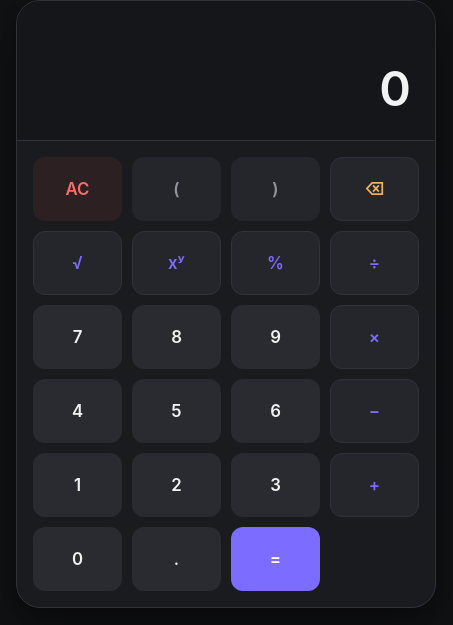
Test case: Calculator › builds an expression when an operator is entered
The width and height of the screenshot is (453, 625).
Step 1. Click the button "8" → (176, 337), box [132,305,221,369]
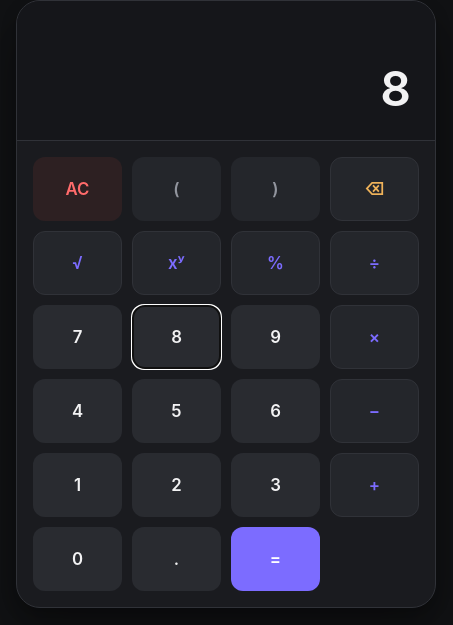
Step 2. Click the button "+" → (374, 485), box [330,453,419,517]
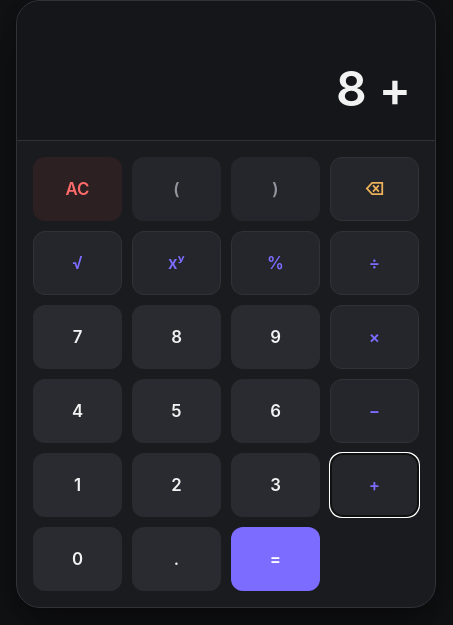
Step 3. Click the button "5" → (176, 411), box [132,379,221,443]
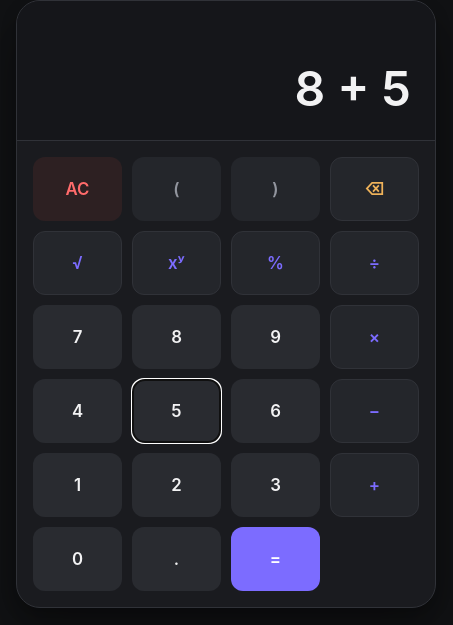
Check: the text "8 + 5" is shown, box [294,59,411,118]
